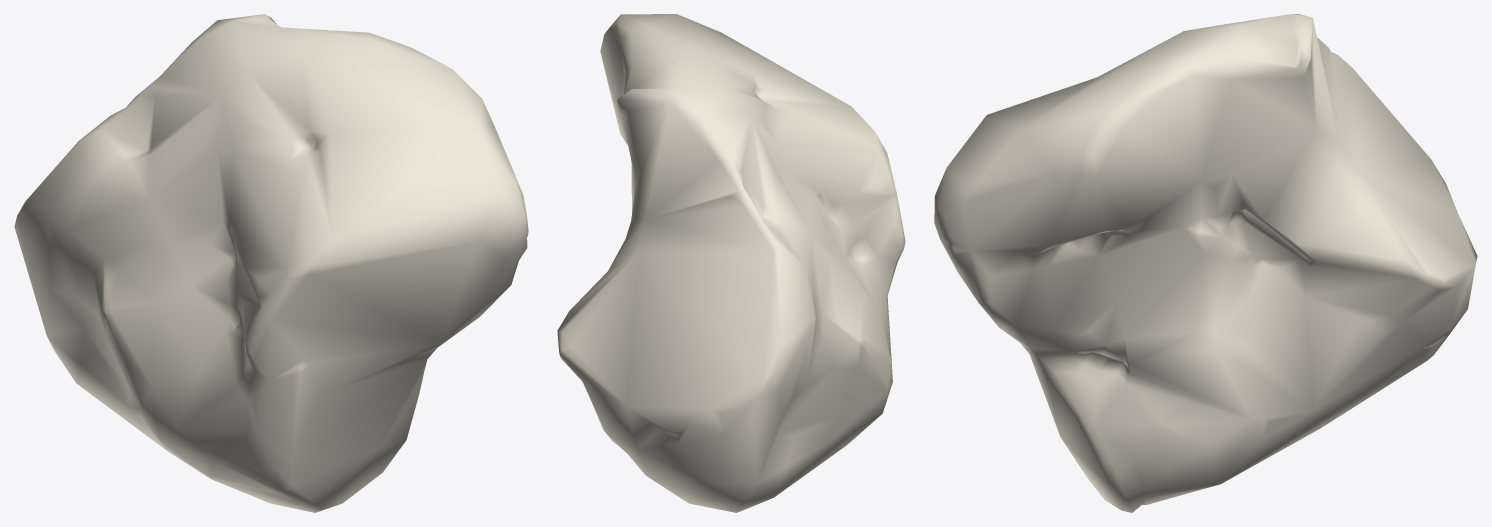
The picture shows the model from 3 angles, left to right: view 1: azimuth 30°, elevation 25°; view 2: azimuth 150°, elevation 25°; view 3: azimuth 270°, elevation 25°; orthographic projection. The views are drawn at different scales.
Parts seen in each view (by area): view 1: ZA_9c3c0c814f099c86; view 2: ZA_9c3c0c814f099c86; view 3: ZA_9c3c0c814f099c86.
Part boxes in pixels (x1,y1,x2,y2): ZA_9c3c0c814f099c86: [14, 14, 528, 512]; ZA_9c3c0c814f099c86: [557, 14, 905, 512]; ZA_9c3c0c814f099c86: [934, 14, 1477, 512].
Size of the model in its own units: 0.0251 by 0.0323 by 0.033.
